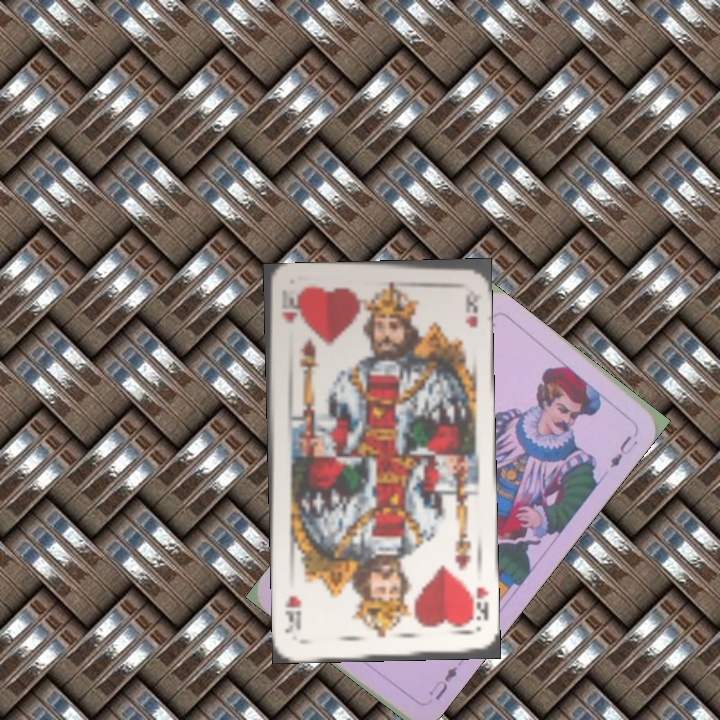EU: (424, 662, 461, 703)
HK: (463, 580, 491, 626), (278, 288, 298, 327)
